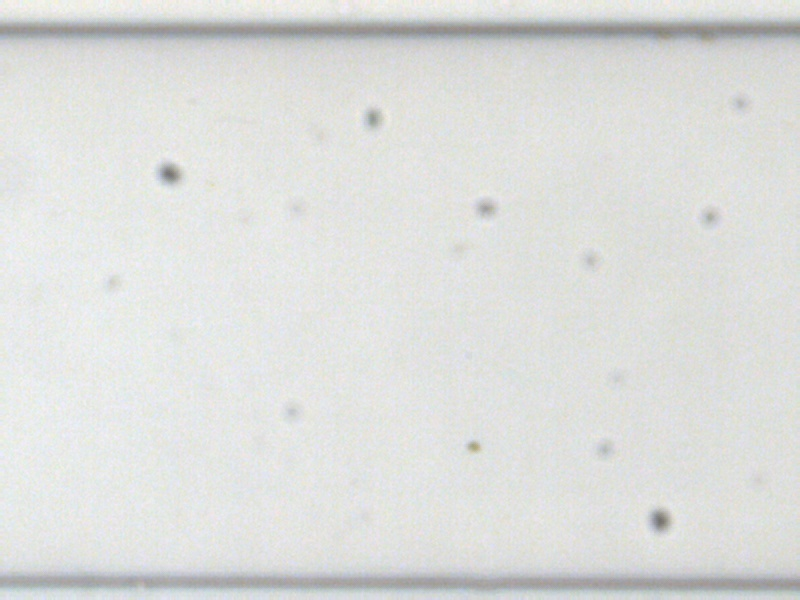Chlorella: (466, 439, 480, 454)
